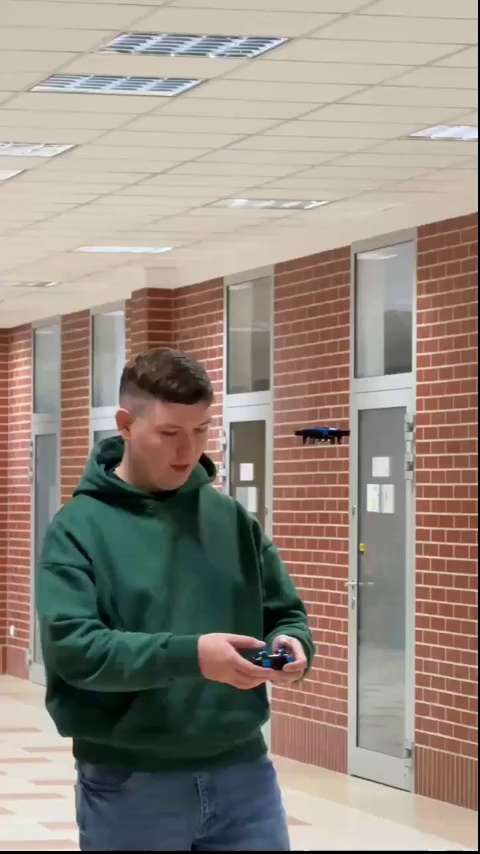drone: (293, 421, 346, 445)
no vest: (40, 344, 314, 837)
